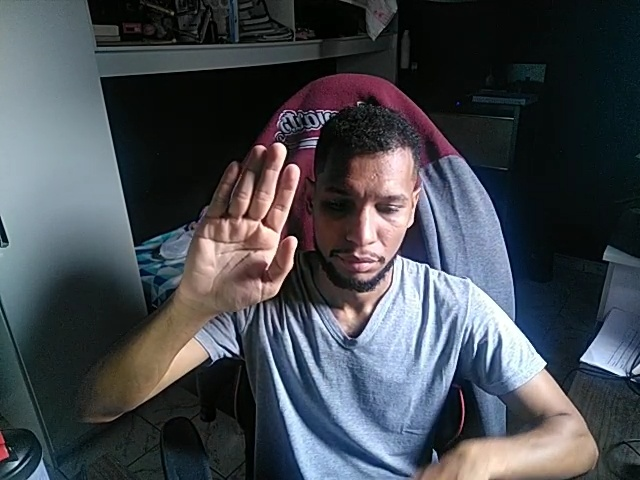oi: (184, 137, 307, 315)
